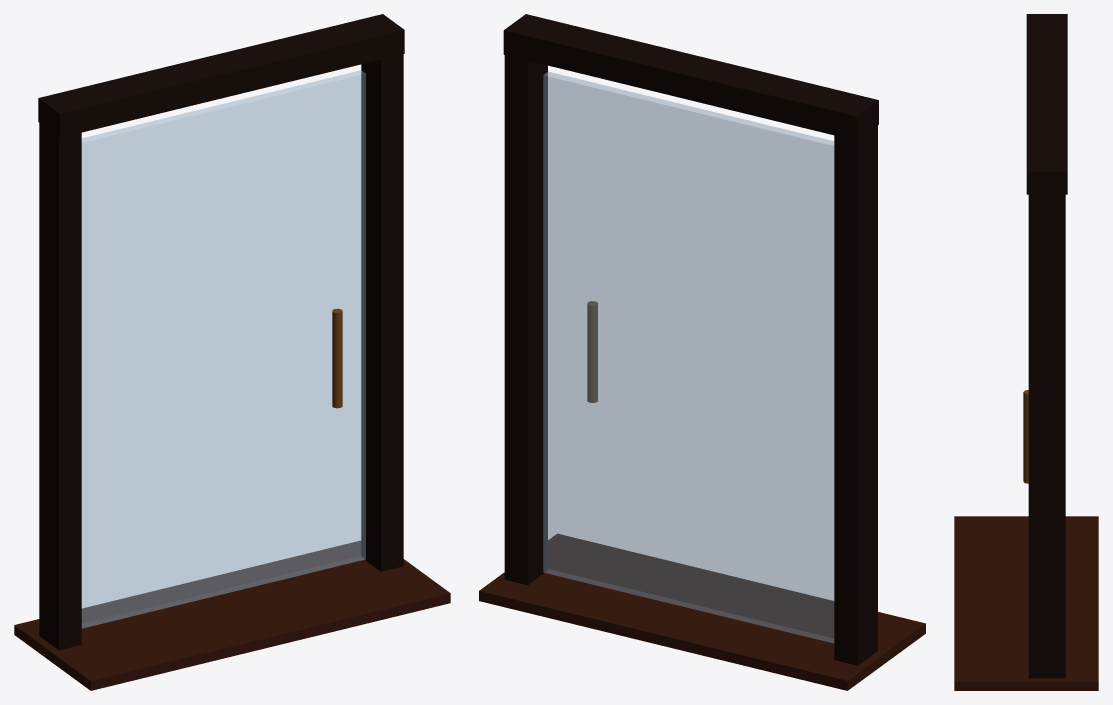
File: door.glb
The picture shows the model from 3 angles, left to right: view 1: azimuth 30°, elevation 25°; view 2: azimuth 150°, elevation 25°; view 3: azimuth 270°, elevation 25°; orthographic projection. The views are drawn at different scales.
Visible parts, largest first — view 1: door; view 2: door; view 3: door.
Part boxes in pixels (bbox=[...]): door: bbox=[14, 14, 450, 690]; door: bbox=[479, 14, 925, 690]; door: bbox=[954, 14, 1098, 690].
Bounding box in the file's own units: 1.9 × 2.76 × 0.7.
